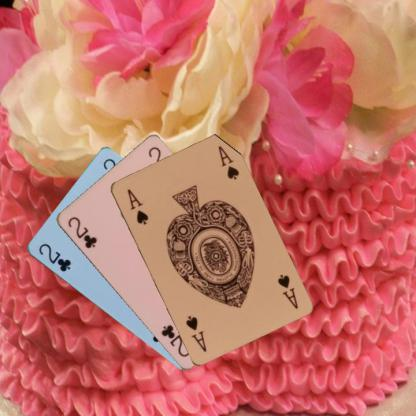2c: (36, 240, 72, 274), (65, 214, 98, 250)
As: (124, 186, 150, 226), (274, 271, 300, 310)
